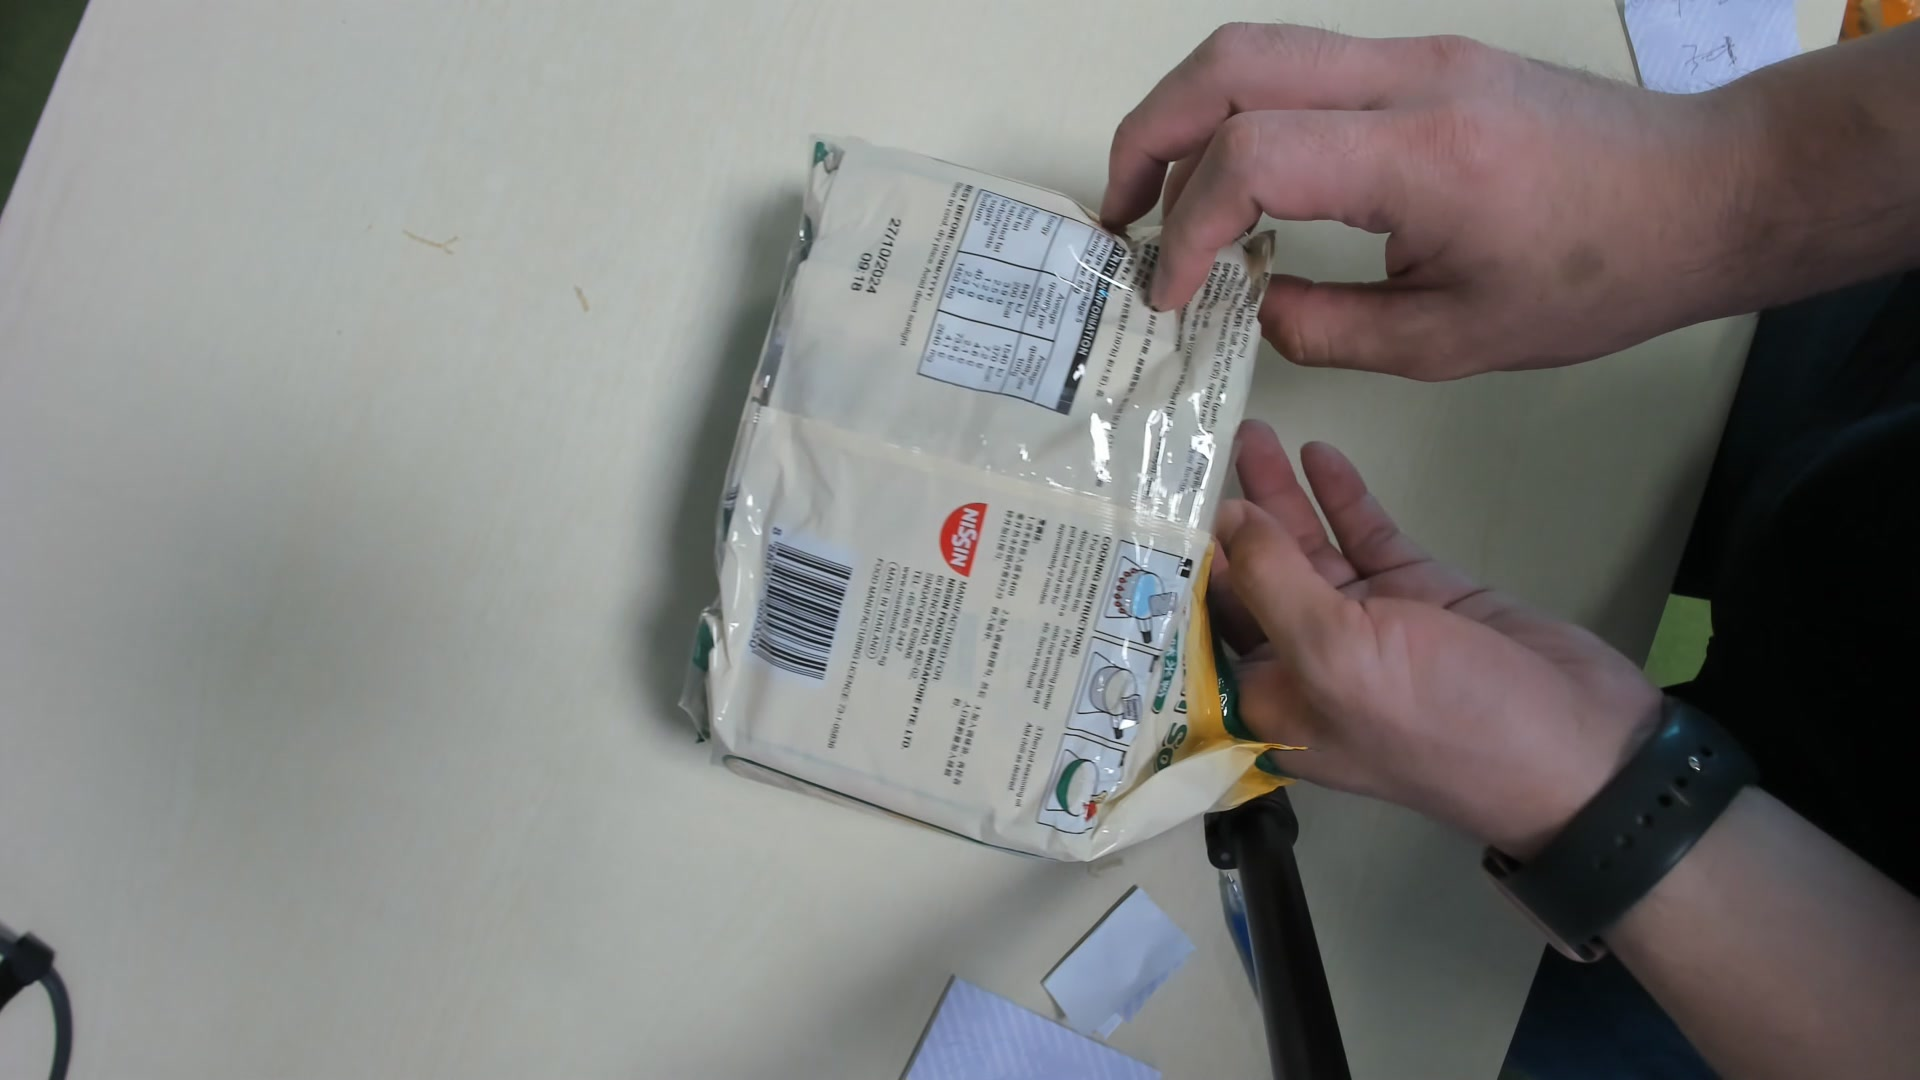OtherNoodles_400-499g_Halal_NonHealthy: (680, 141, 1290, 874)
